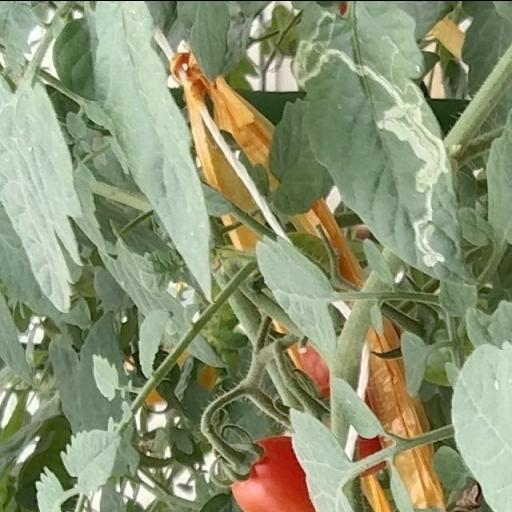disease_tomato: (290, 0, 466, 288)
